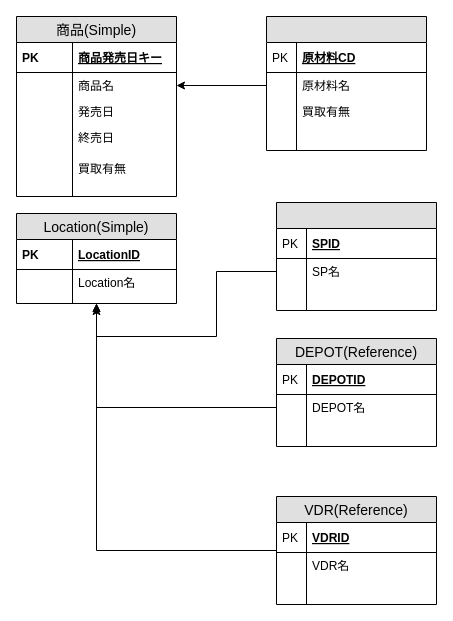
This 453x621 diagram has some shape labels left out. The box of each missing label's shape, as (x1, y1, x2, y2) in pixels:
SP(Reference): (276, 202, 436, 310)
原材料(Reference): (266, 16, 426, 150)
